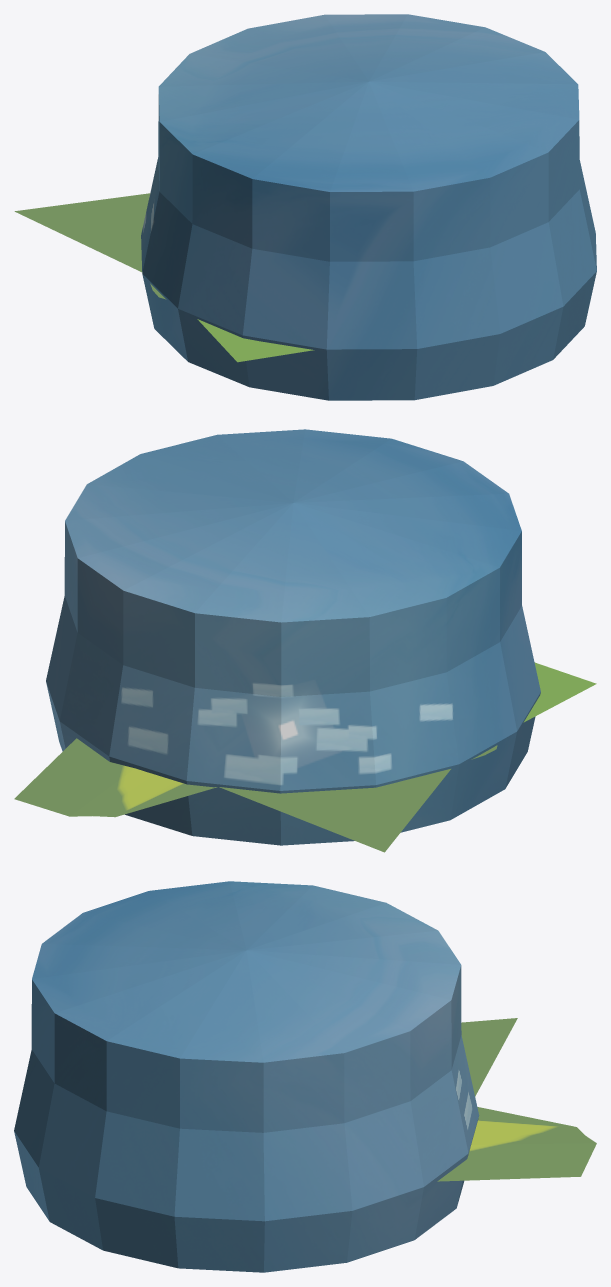
Rendered from hub.glb.
The picture shows the model from 3 angles, top to bottom: view 1: azimuth 30°, elevation 25°; view 2: azimuth 150°, elevation 25°; view 3: azimuth 270°, elevation 25°; orthographic projection. The views are drawn at different scales.
Parts seen in each view (by area): view 1: Plane; view 2: Plane; view 3: Plane.
Part boxes in pixels (x1,y1,x2,y2): Plane: (14, 14, 596, 400); Plane: (14, 429, 596, 852); Plane: (14, 881, 596, 1272).
Size of the model in its own units: 2736 by 1417 by 3266.
3 materials, 3 textured.
